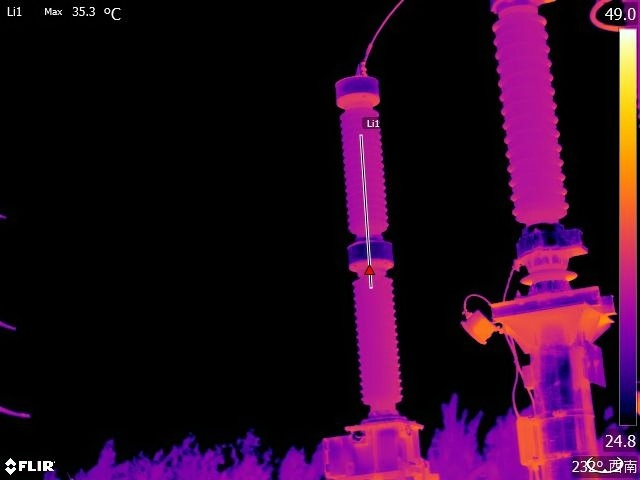lightning arrester: (478, 1, 585, 281)
potential transformer: (321, 63, 431, 466)
